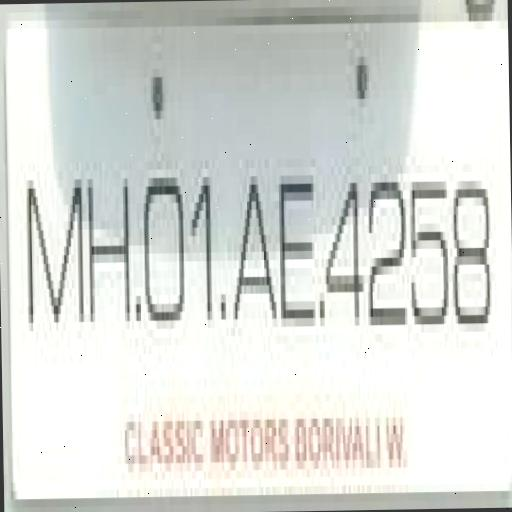number plate: (0, 0, 485, 482)
